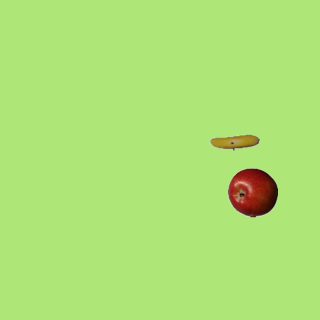Apple Braeburn: (227, 167, 277, 217)
Banana: (209, 117, 259, 167)
